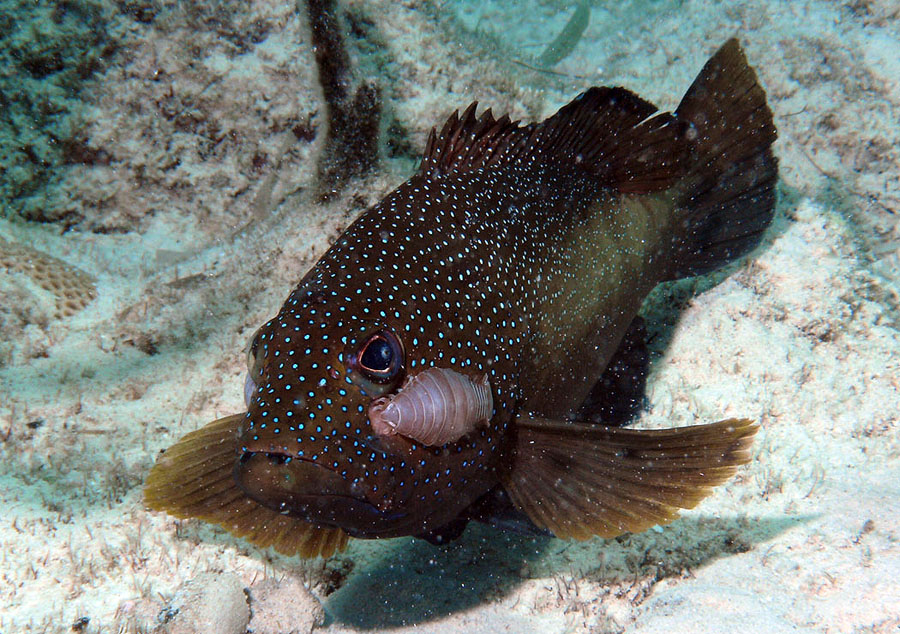Cephalopholis_fulvaw: (119, 31, 801, 575)
